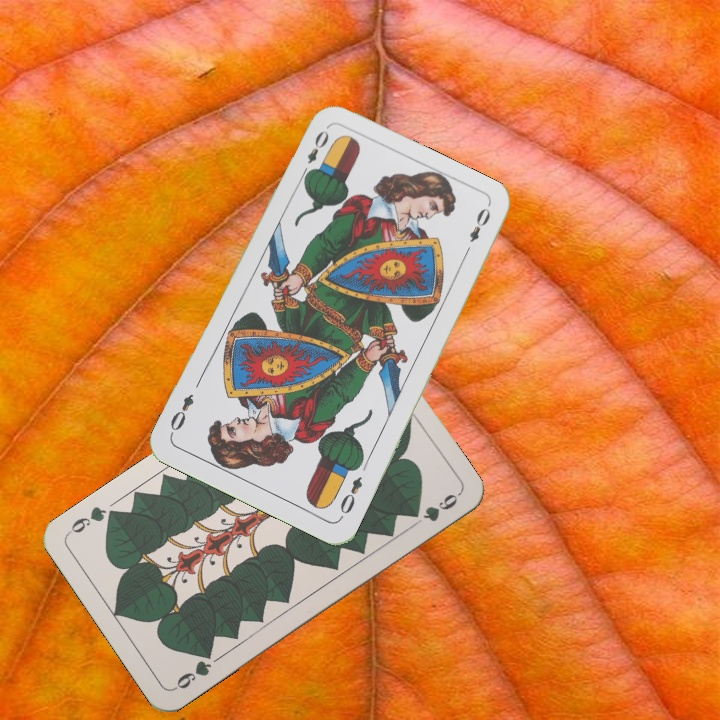EO: (297, 126, 332, 181), (335, 472, 365, 517)
G9: (170, 646, 215, 693)
